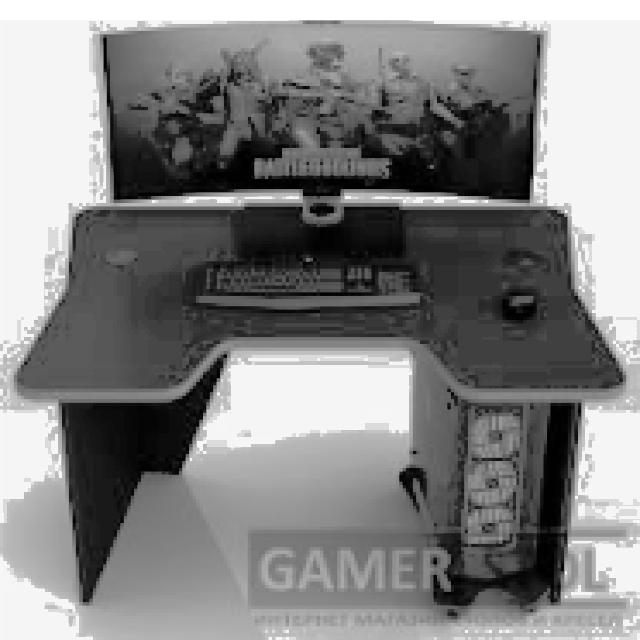table: (14, 196, 626, 609)
